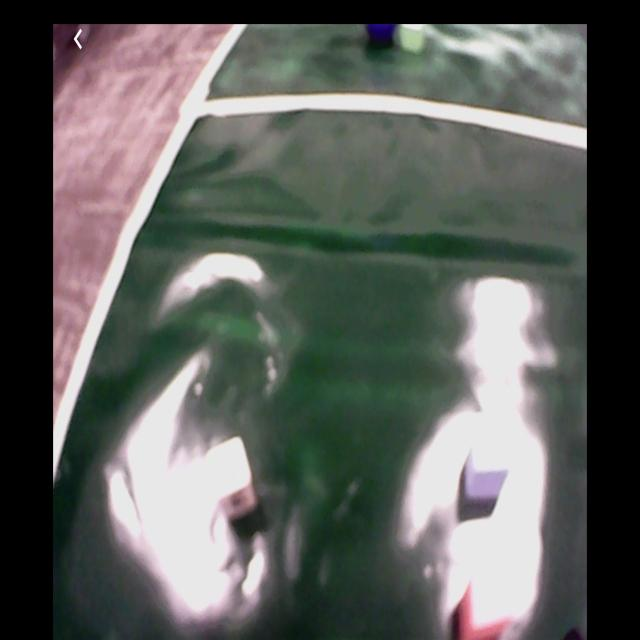ball: (364, 28, 404, 49)
